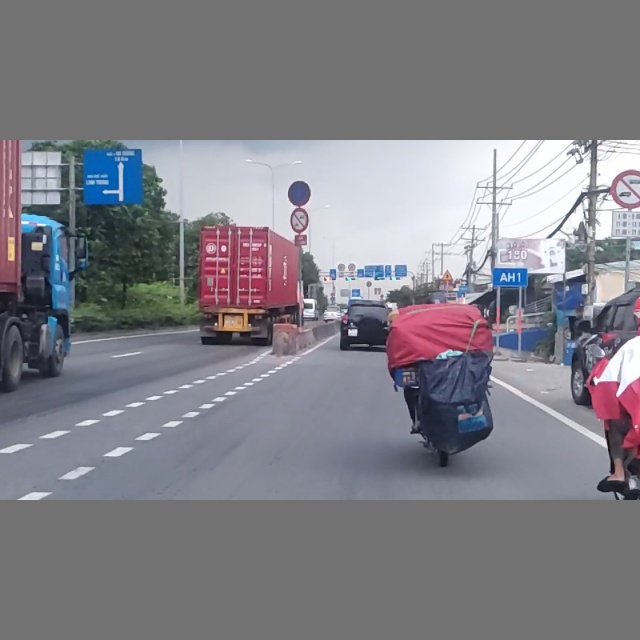P.107: (610, 170, 640, 209)
P.111: (289, 207, 310, 232)
P.130: (287, 180, 311, 205)
